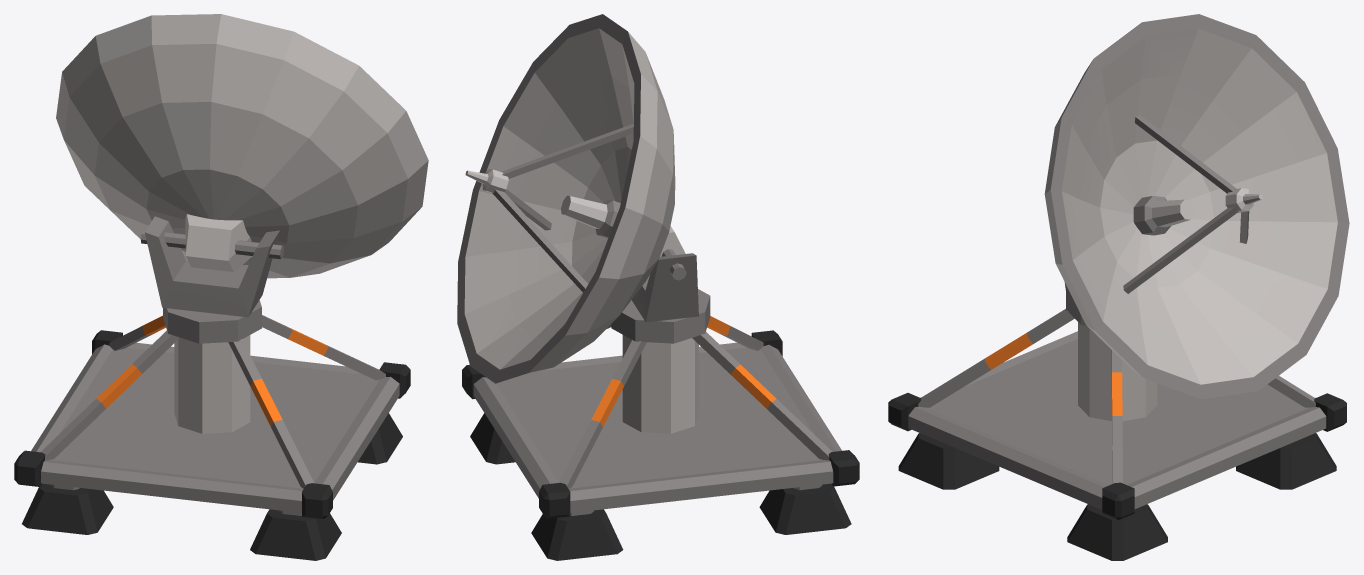
Rendered from scifi-satelit-big.fbx.
3 views of the same model, side by side, from view 1: azimuth 30°, elevation 25°; view 2: azimuth 150°, elevation 25°; view 3: azimuth 270°, elevation 25° (orthographic).
Visible parts, largest first — view 1: scifi_satelit_big_head, scifi_satelit_big_base; view 2: scifi_satelit_big_base, scifi_satelit_big_head; view 3: scifi_satelit_big_head, scifi_satelit_big_base.
Boxes of the visible parts, bbox=[...] form: scifi_satelit_big_head: bbox=[56, 14, 428, 278]; scifi_satelit_big_base: bbox=[14, 216, 410, 560]; scifi_satelit_big_base: bbox=[462, 249, 859, 560]; scifi_satelit_big_head: bbox=[457, 14, 685, 383]; scifi_satelit_big_head: bbox=[1044, 14, 1349, 399]; scifi_satelit_big_base: bbox=[888, 282, 1346, 560].
Size of the model in its own units: 1161 by 1268 by 1161.
